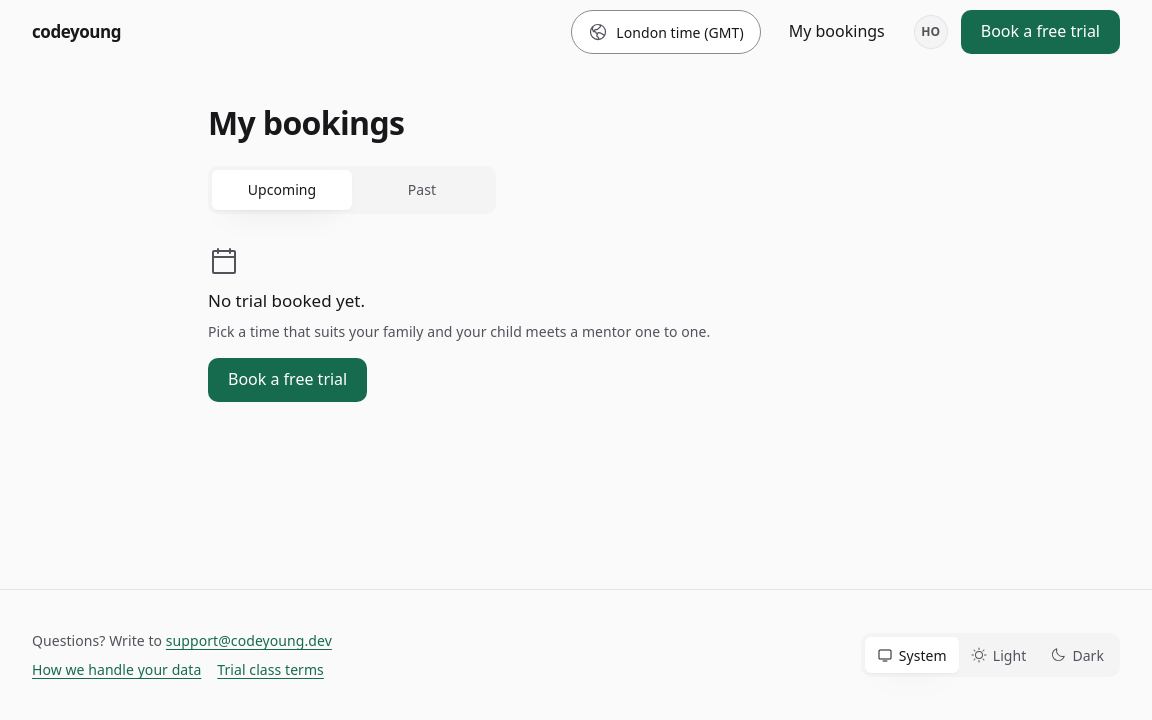
Test: my bookings › shows a composed empty state and keeps the Past tab in the URL
The width and height of the screenshot is (1152, 720).
Click the link "Past" at (422,190), box [408,180,436,199]
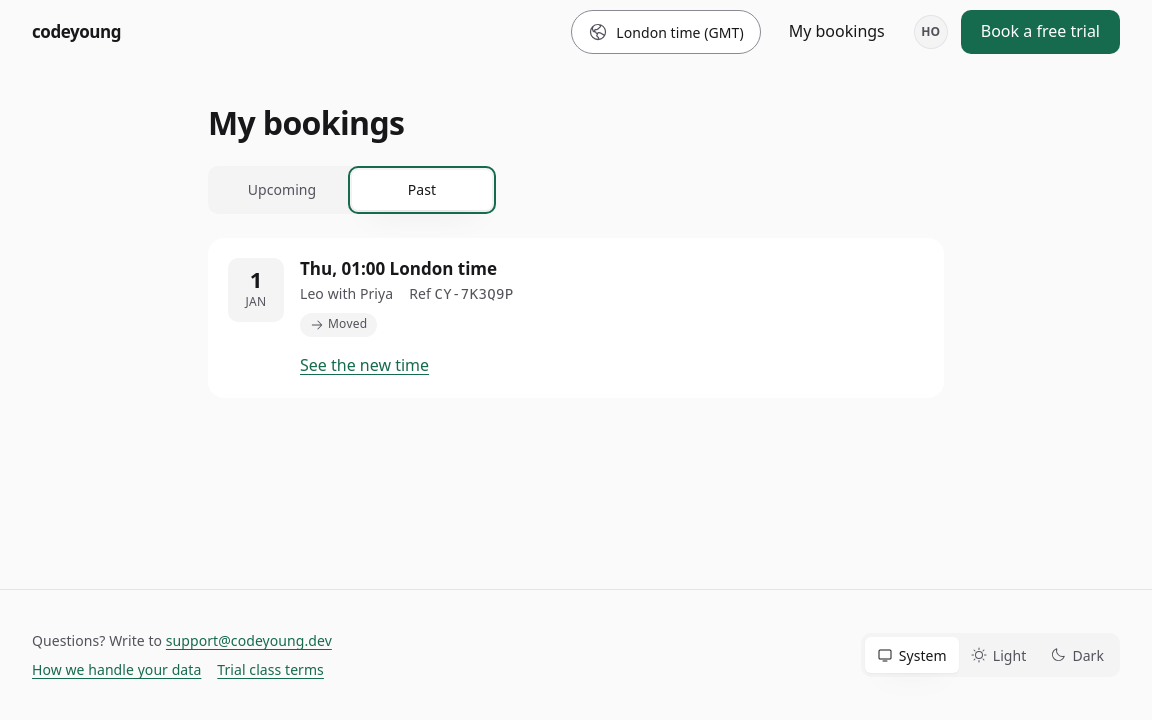
Check: the text "Moved" is shown, box [300,313,377,337]
